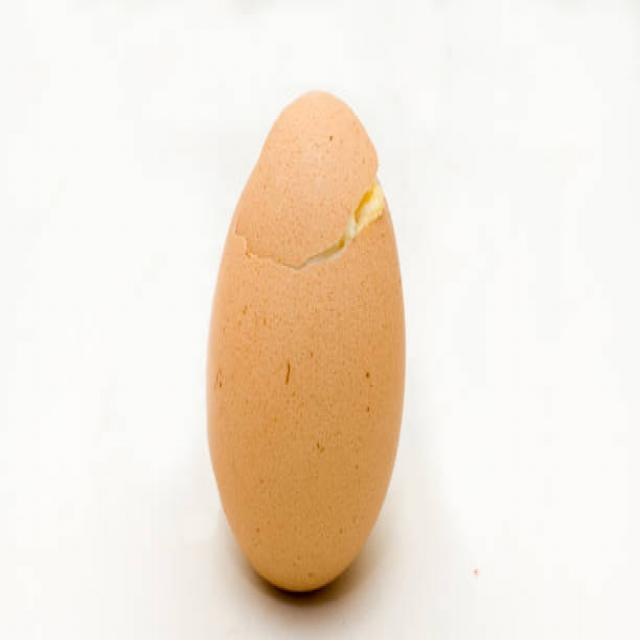biodegradable: (204, 92, 408, 604)
